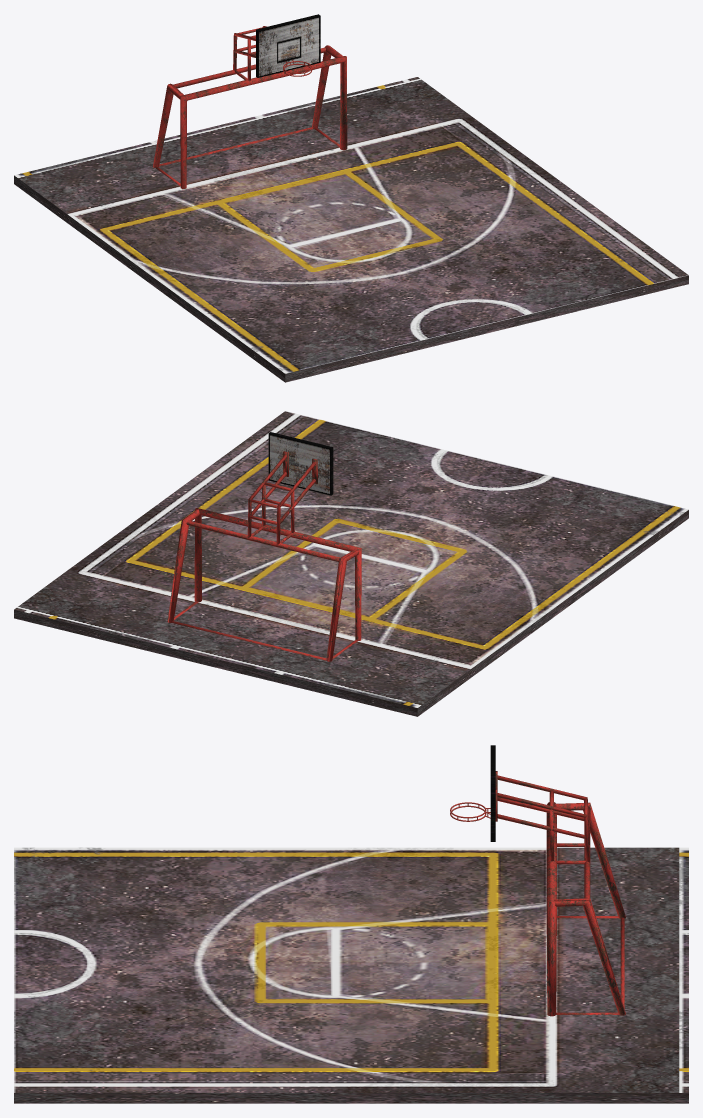
The model's file is court.glb.
The picture shows the model from 3 angles, top to bottom: view 1: azimuth 30°, elevation 25°; view 2: azimuth 150°, elevation 25°; view 3: azimuth 270°, elevation 25°; orthographic projection. The views are drawn at different scales.
Parts seen in each view (by area): view 1: Object_2, Object_3, Object_5; view 2: Object_2, Object_3, Object_7; view 3: Object_2, Object_3, Object_5.
Part boxes in pixels (x1=…): Object_2: x1=14, y1=77, x2=688, y2=382; Object_3: x1=153, y1=26, x2=347, y2=188; Object_5: x1=256, y1=14, x2=320, y2=77; Object_2: x1=14, y1=411, x2=688, y2=716; Object_3: x1=167, y1=455, x2=361, y2=661; Object_7: x1=268, y1=433, x2=331, y2=495; Object_2: x1=14, y1=847, x2=688, y2=1103; Object_3: x1=497, y1=775, x2=625, y2=1016; Object_5: x1=490, y1=745, x2=495, y2=841.
Size of the model in its own units: 7.61 by 3.09 by 8.86.
Materials: 6 (6 with a texture image).
